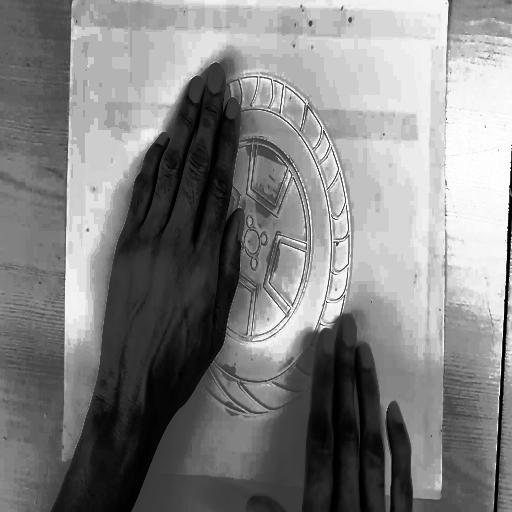bottom_left: (58, 450, 69, 465)
bottom_right: (436, 487, 446, 504)
tire: (149, 61, 360, 432)
